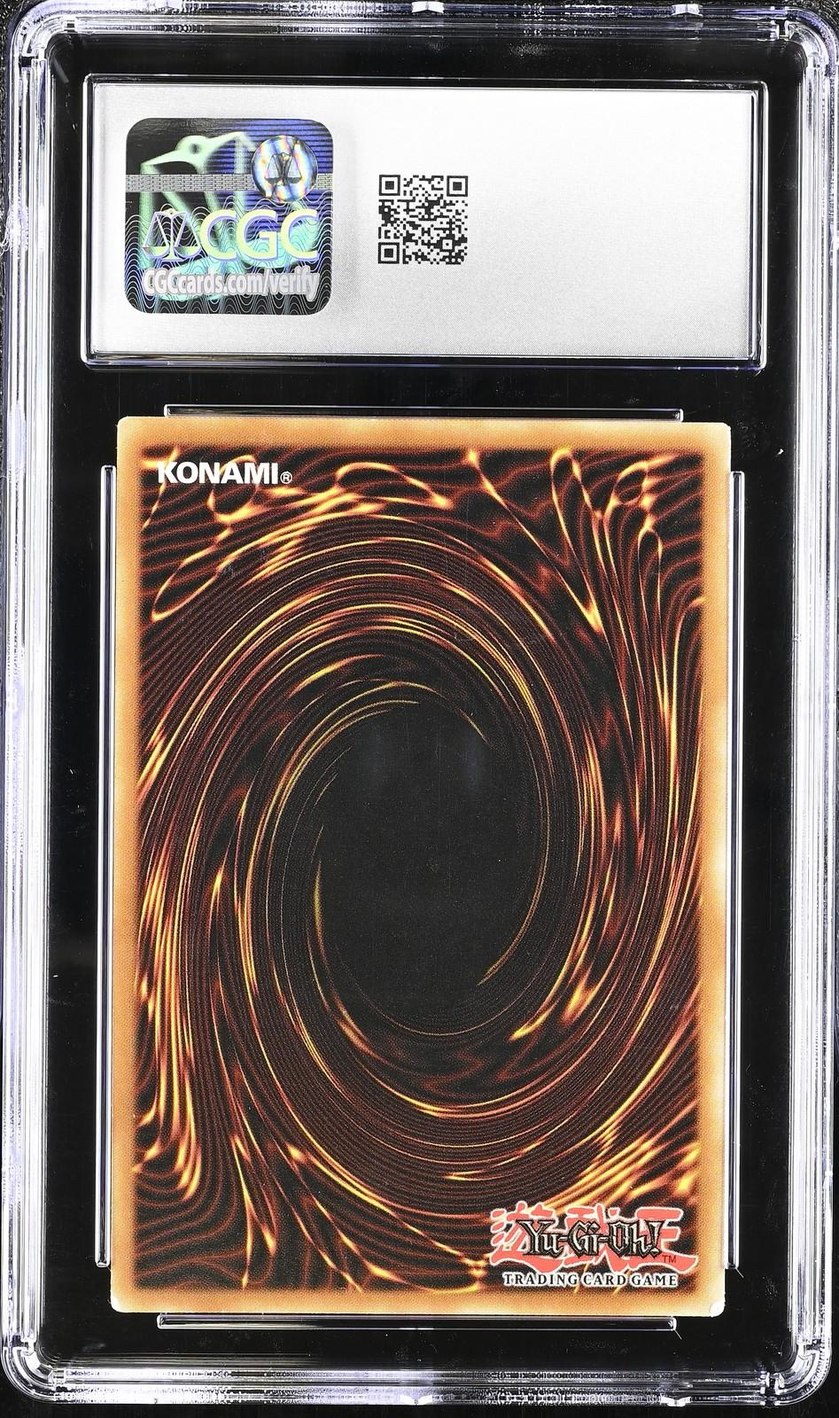card-2UtV: (110, 415, 731, 1317)
